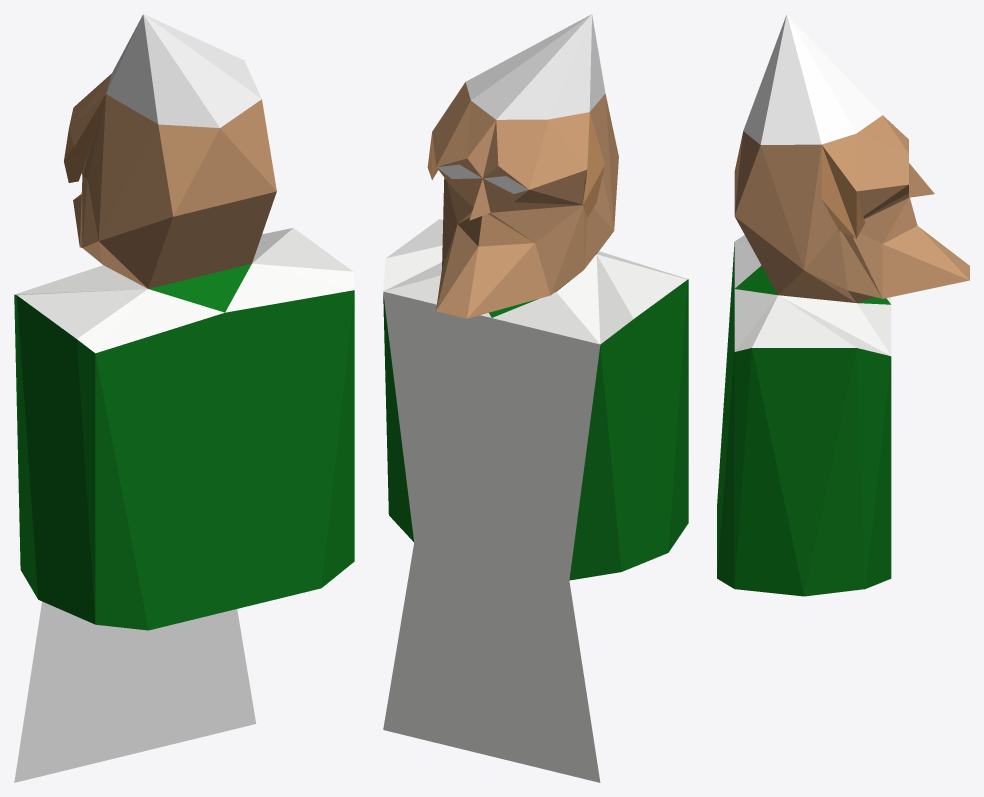
File: npc_world_hudo_0.obj
The picture shows the model from 3 angles, left to right: view 1: azimuth 30°, elevation 25°; view 2: azimuth 150°, elevation 25°; view 3: azimuth 270°, elevation 25°; orthographic projection. The views are drawn at different scales.
Size of the model in its own units: 0.2656 by 0.6875 by 0.2266.
